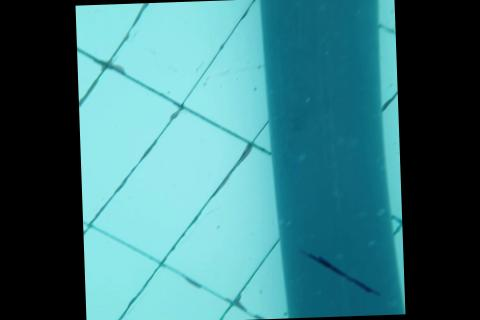keretakan: (297, 247, 383, 300)
